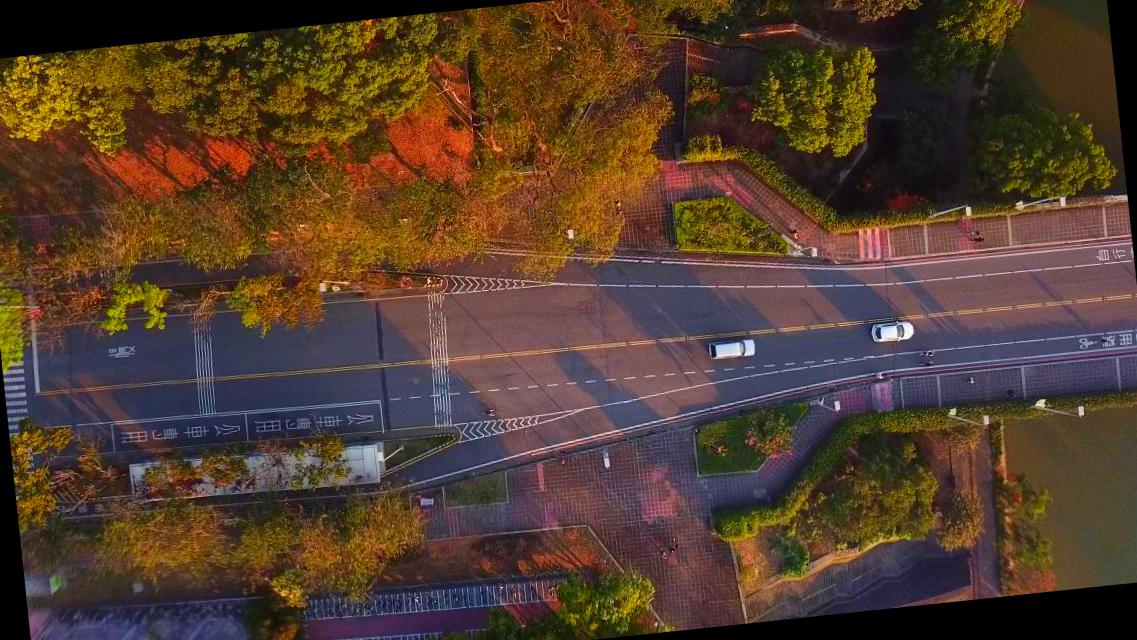vehicle: (708, 336, 756, 359), (870, 319, 915, 343)
